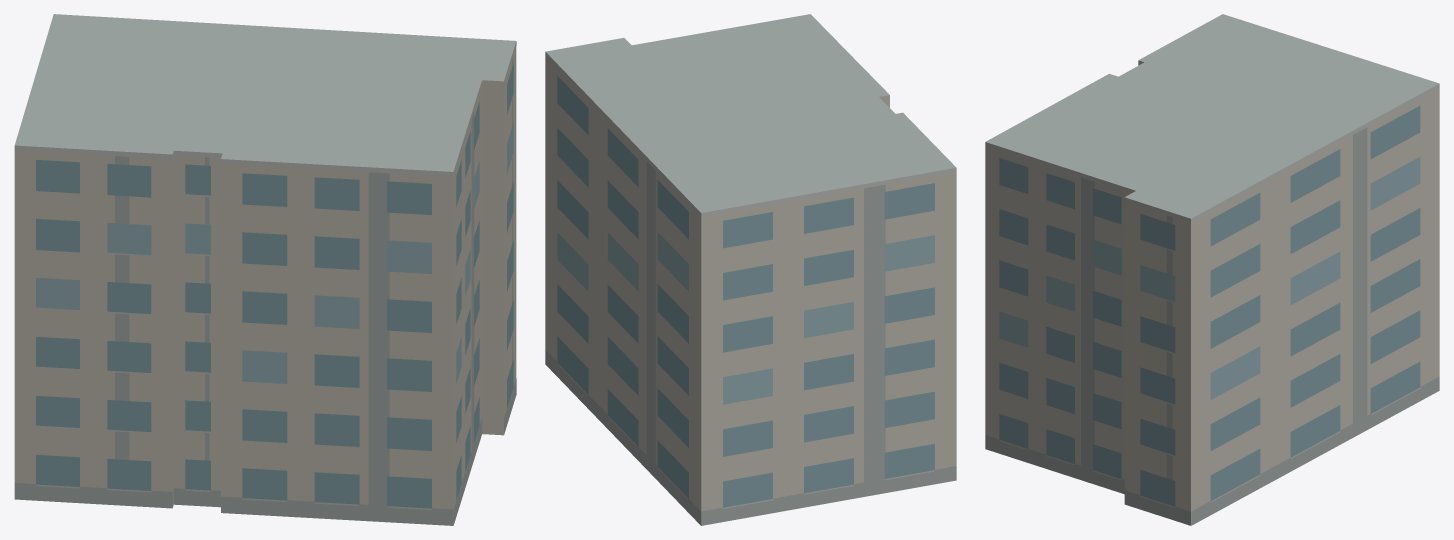
The model's file is survey-upis-32496286.glb.
3 views of the same model, side by side, from view 1: azimuth 30°, elevation 25°; view 2: azimuth 150°, elevation 25°; view 3: azimuth 270°, elevation 25° (orthographic). The views are drawn at different scales.
Parts seen in each view (by area): view 1: survey-upis-32496286.tmp; view 2: survey-upis-32496286.tmp; view 3: survey-upis-32496286.tmp.
Part boxes in pixels (left/top/right/bottom): survey-upis-32496286.tmp: left=14, top=14, right=516, bottom=525; survey-upis-32496286.tmp: left=545, top=14, right=956, bottom=525; survey-upis-32496286.tmp: left=985, top=14, right=1439, bottom=525.
Size of the model in its own units: 25 by 17.48 by 23.44.
